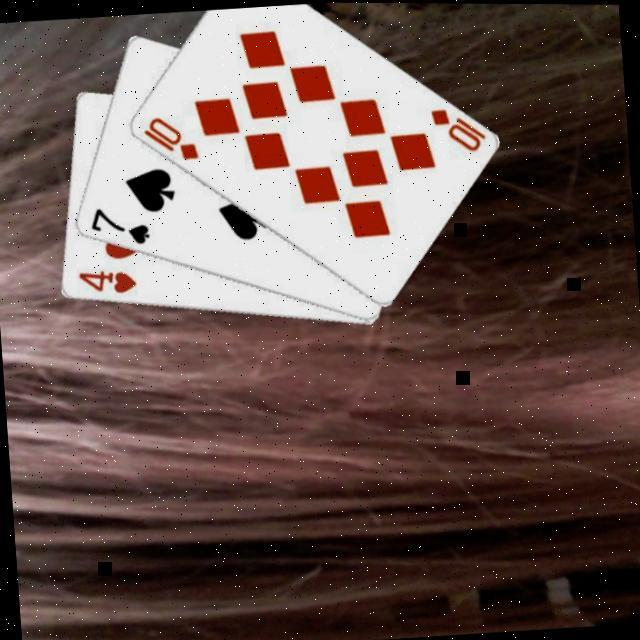10D: (137, 111, 200, 166), (426, 102, 488, 156)
4H: (74, 266, 138, 300)
7S: (84, 202, 151, 250)
